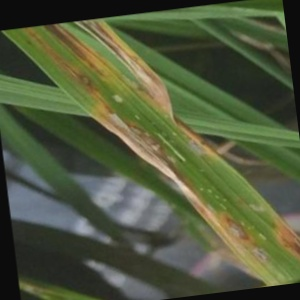Brown_Spot: (219, 214, 256, 242), (248, 242, 277, 261)
